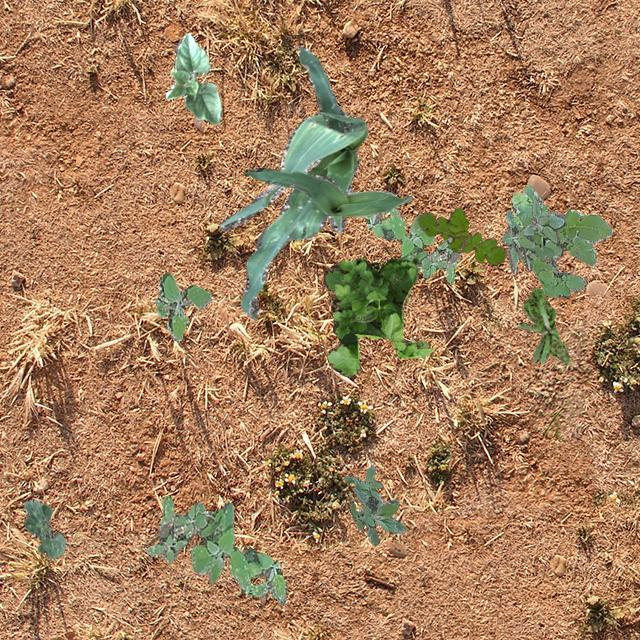crop: (220, 45, 366, 318), (242, 167, 410, 216), (164, 32, 220, 124), (23, 498, 65, 558)
weed: (146, 494, 286, 604), (322, 256, 432, 376), (511, 185, 614, 296), (364, 206, 458, 282), (416, 207, 506, 264), (344, 464, 406, 544), (500, 196, 564, 272), (516, 286, 568, 364), (154, 272, 210, 341)
